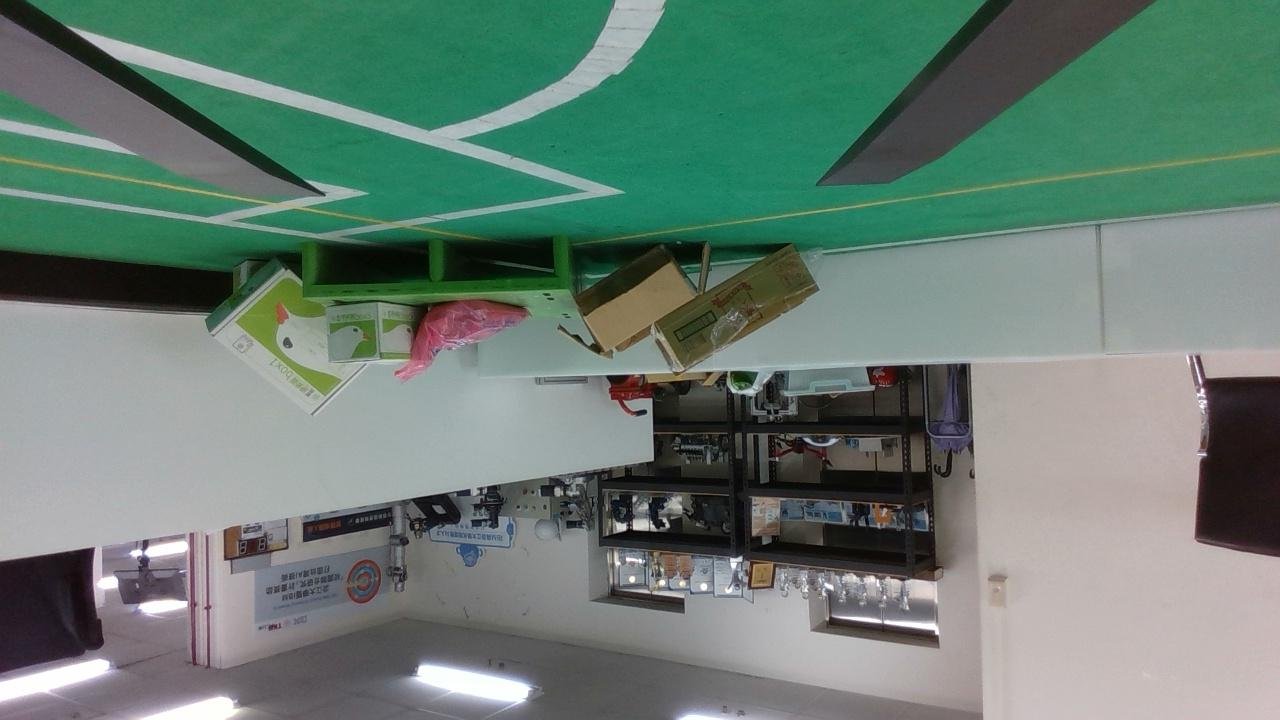Pallet: (302, 235, 571, 299)
